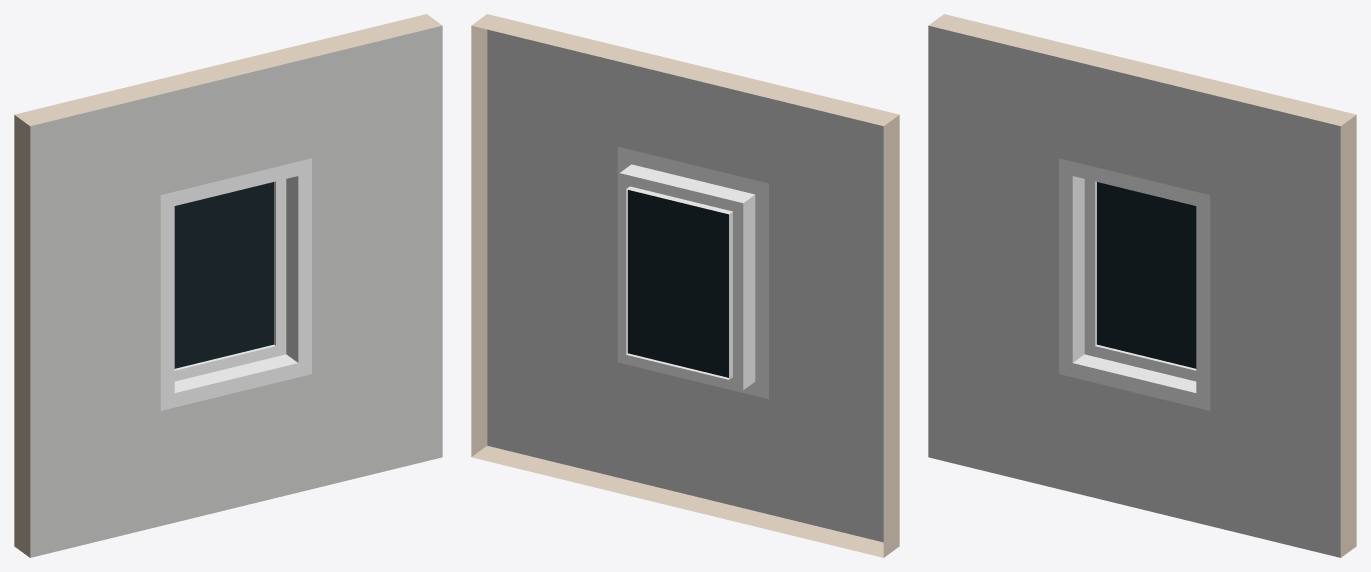
File: house-wall-window.glb
3 renders of one model, left to right at view 1: azimuth 30°, elevation 25°; view 2: azimuth 150°, elevation 25°; view 3: azimuth 330°, elevation 25°, orthographic.
Visible parts, largest first — view 1: house-wall-window; view 2: house-wall-window; view 3: house-wall-window.
Boxes of the visible parts, left/top/right/bottom form: house-wall-window: left=14, top=14, right=442, bottom=557; house-wall-window: left=471, top=14, right=899, bottom=557; house-wall-window: left=928, top=14, right=1356, bottom=557.
Size of the model in its own units: 3 by 3 by 0.2.
1 material, 1 textured.
